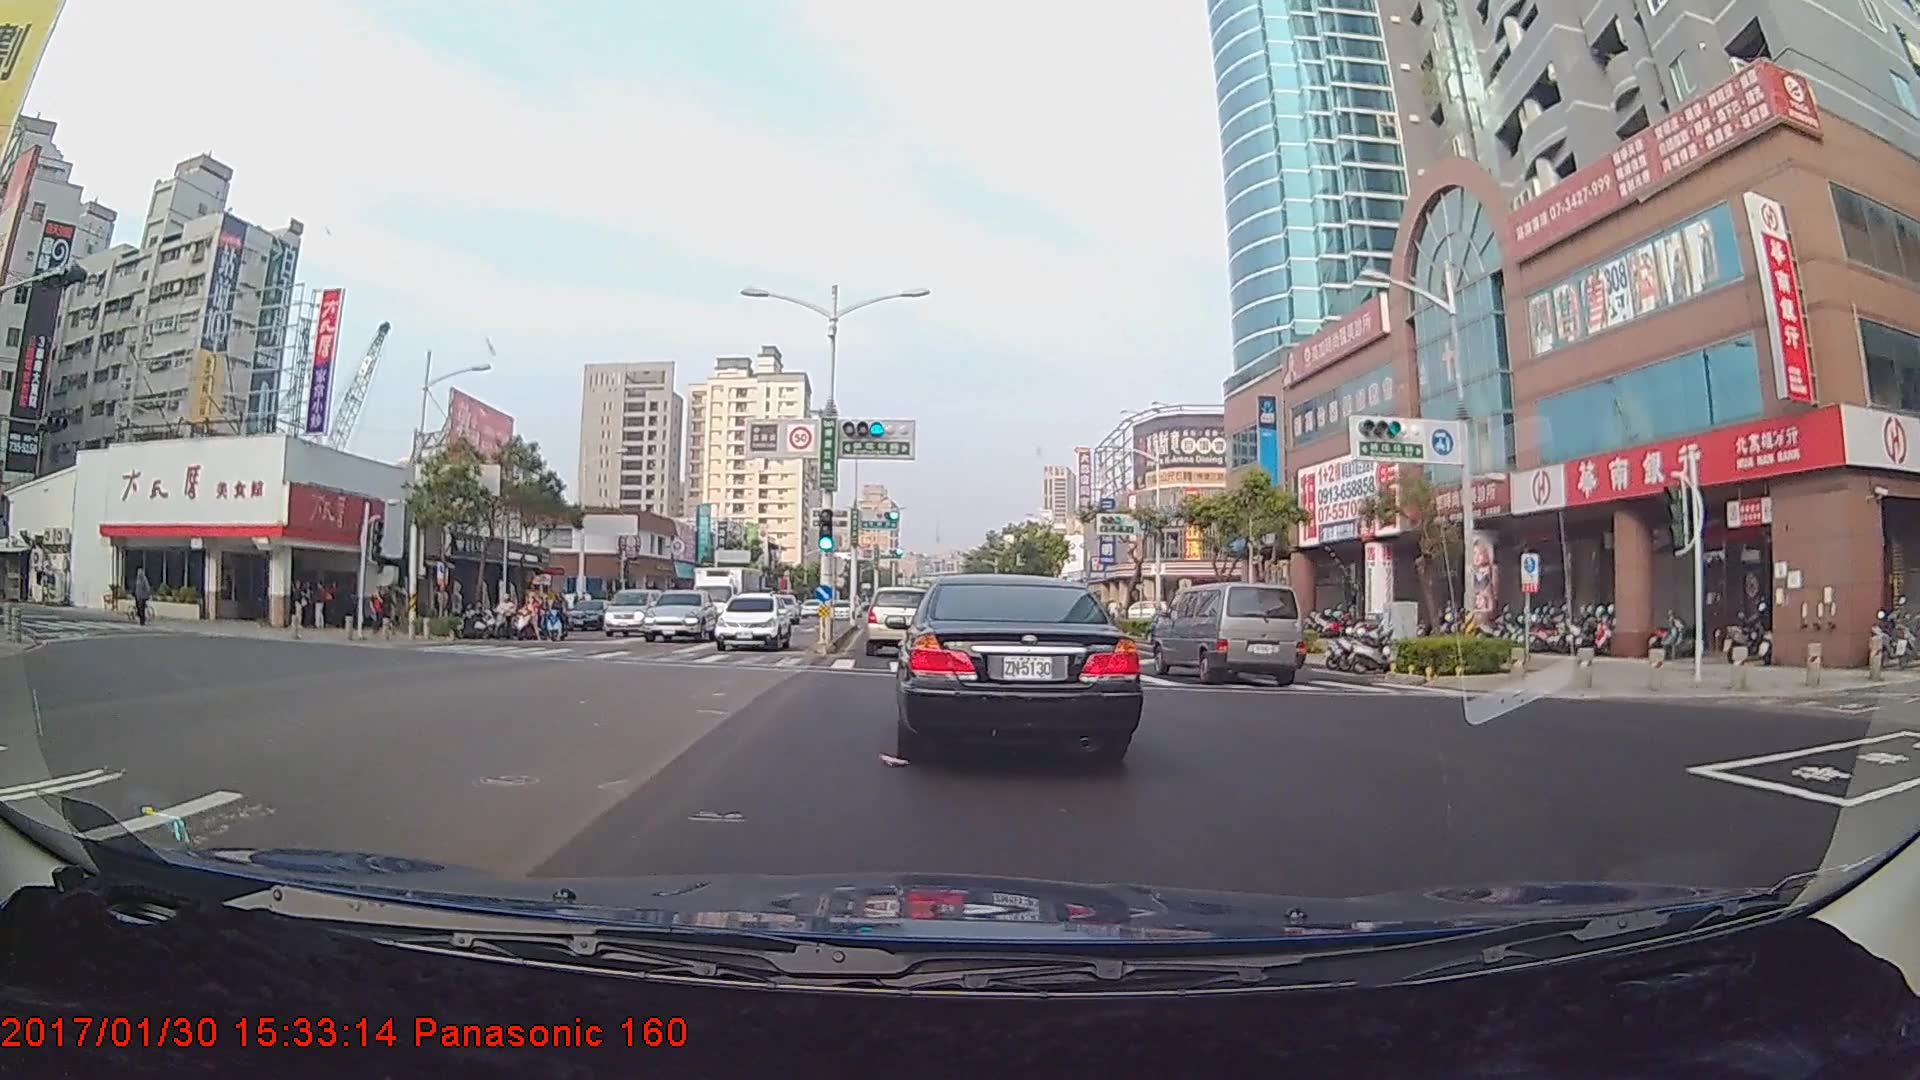pedestrian: (130, 568, 154, 627), (288, 577, 309, 633), (366, 584, 388, 636), (310, 580, 330, 631)
vehicle: (894, 569, 1137, 762), (1154, 580, 1304, 687), (692, 562, 769, 636), (864, 583, 937, 655), (713, 592, 792, 651), (643, 589, 716, 644), (598, 585, 661, 638)
